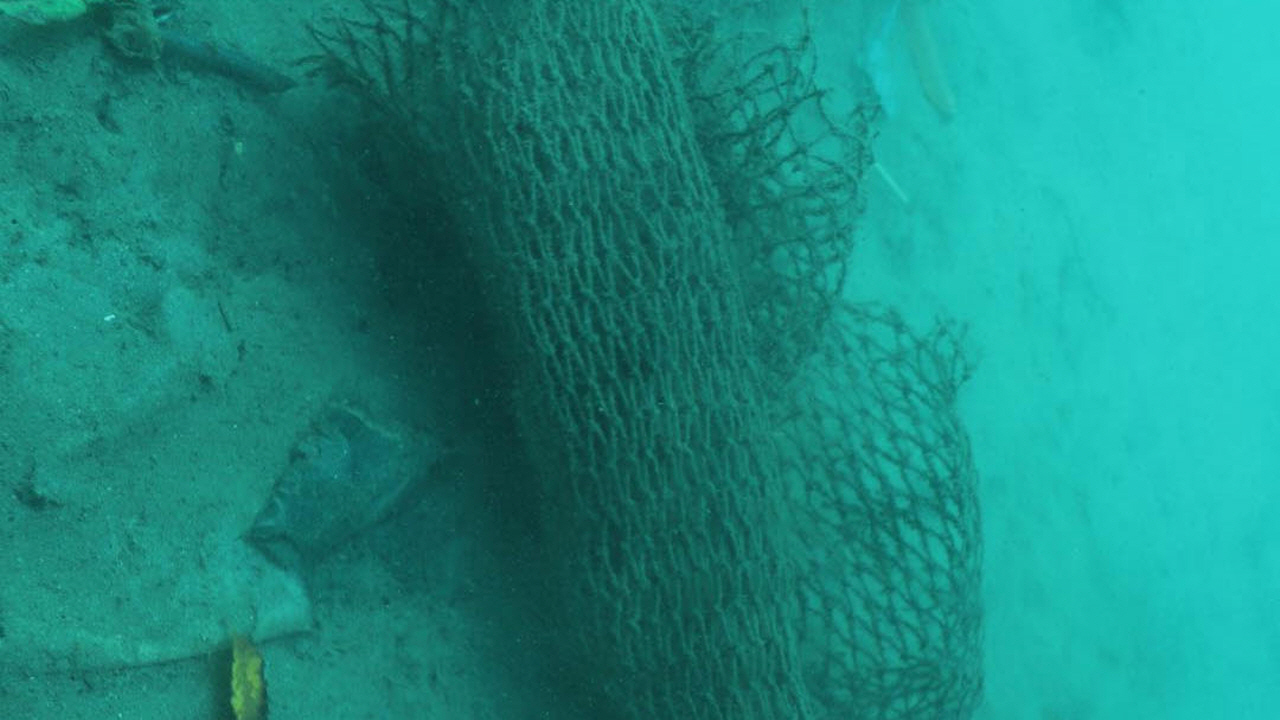fish net: (305, 0, 985, 720)
